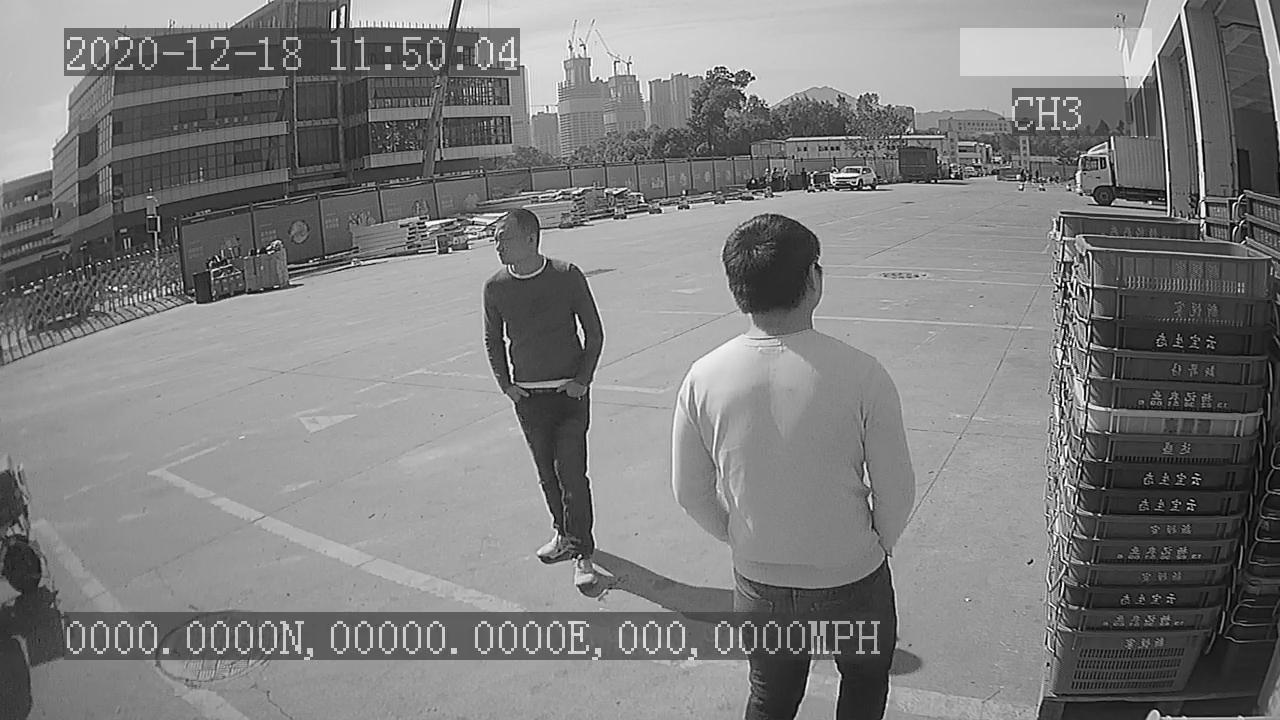person: (477, 202, 609, 599)
